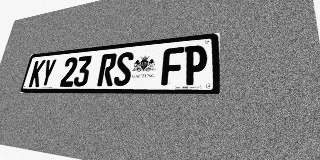2: (60, 57, 79, 87)
3: (73, 55, 92, 87)
F: (161, 47, 184, 85)
K: (28, 60, 46, 87)
P: (183, 44, 207, 85)
R: (97, 53, 117, 86)
S: (113, 51, 134, 86)
Y: (39, 59, 57, 87)
